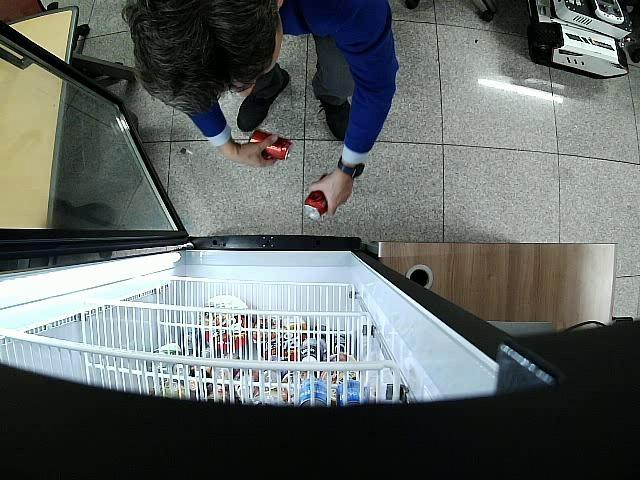11_cocaColaZero: (248, 128, 294, 160), (302, 172, 328, 220)
